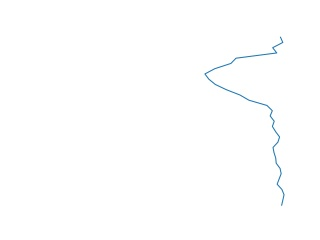distalBar: (201, 36, 290, 209)
